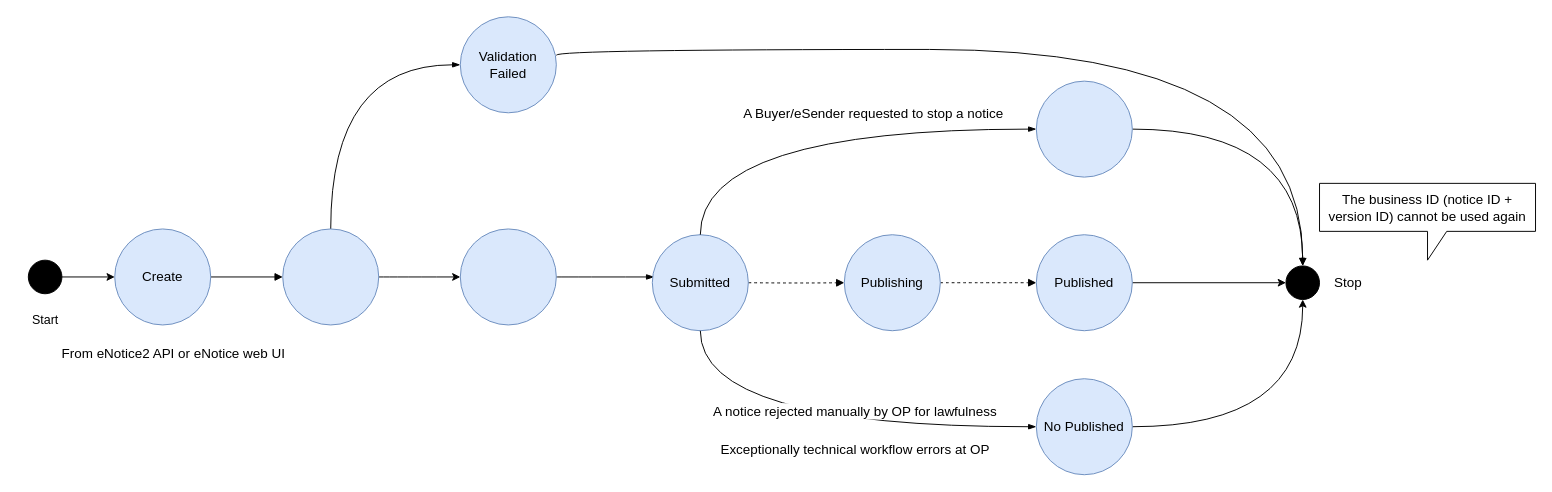
This 1552x492 diagram has some shape labels left out. Here are the shapes that lost their labels. From the top down, the centre of each, then its label:
[1083,128]: Stopped
[330,276]: In Validation
[507,276]: Validated
